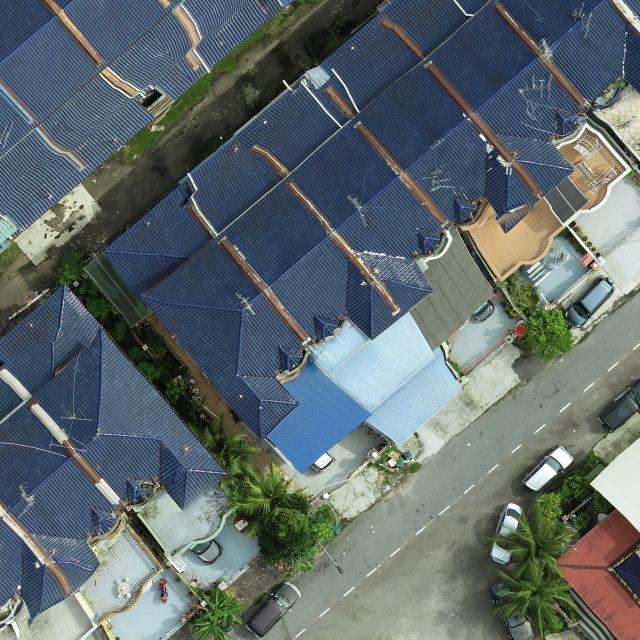banana_tree2: (194, 586, 243, 626), (190, 609, 234, 640)
tree: (489, 555, 579, 640), (484, 501, 578, 581), (185, 412, 264, 492), (235, 459, 307, 538), (257, 507, 311, 566), (522, 308, 574, 362), (508, 272, 539, 310), (560, 475, 590, 503), (534, 492, 564, 518), (85, 296, 112, 318), (55, 264, 80, 287), (136, 361, 162, 383), (60, 248, 84, 271), (164, 378, 185, 402), (592, 492, 613, 514), (185, 394, 207, 412), (127, 346, 148, 364), (572, 511, 591, 530), (114, 320, 128, 341)
